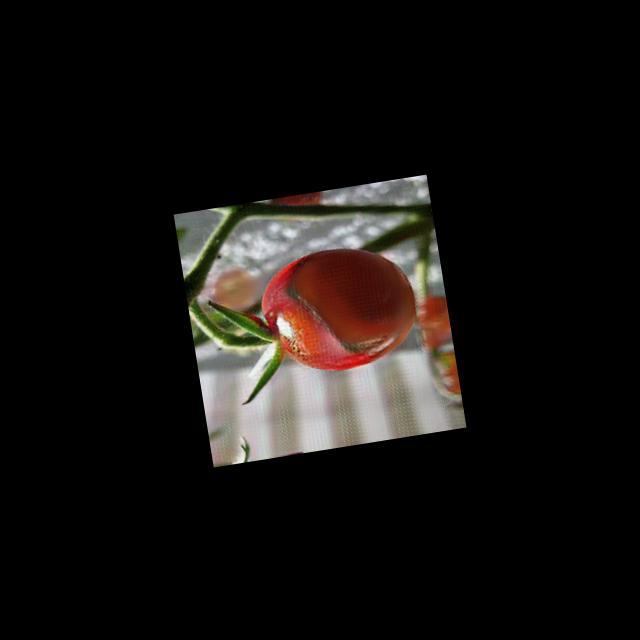tomato: (253, 238, 423, 382)
